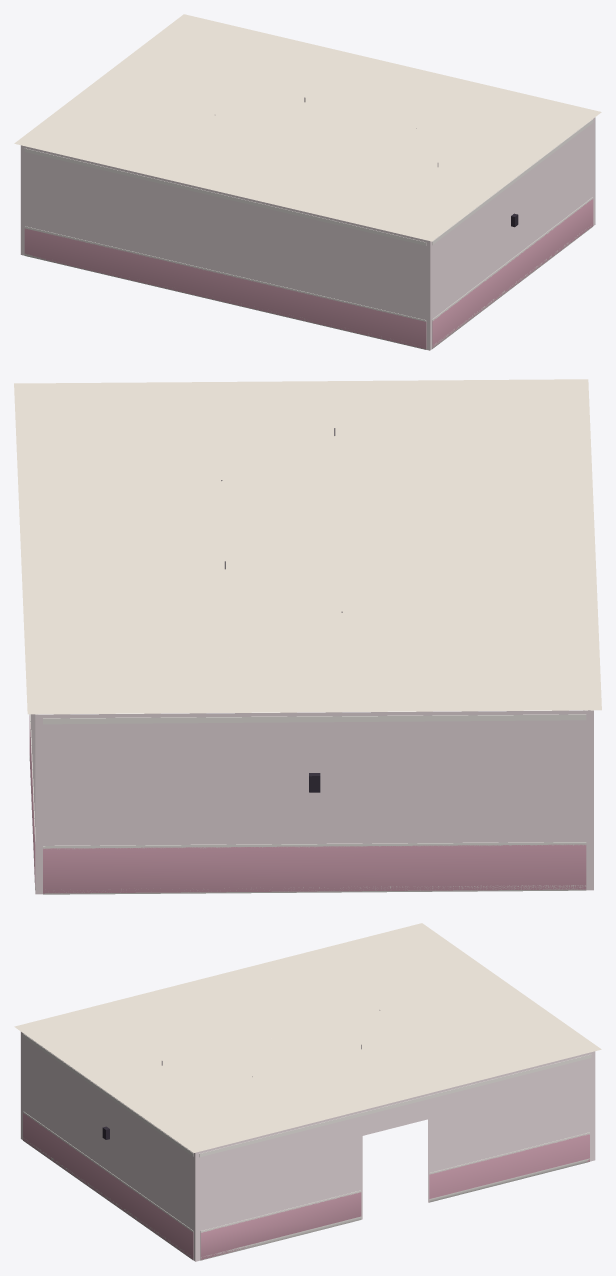
The model's file is zon_room_diary_lite_raw.glb.
The picture shows the model from 3 angles, top to bottom: view 1: azimuth 30°, elevation 25°; view 2: azimuth 150°, elevation 25°; view 3: azimuth 270°, elevation 25°; orthographic projection. The views are drawn at different scales.
Parts seen in each view (by area): view 1: SM_zon_room_diary_lite_room_ceiling_xm1_z0_raw, SM_zon_room_diary_lite_room_paper_xm1_z0_raw, SM_zon_room_diary_lite_room_floor_plaster_xm1_z0_raw; view 2: SM_zon_room_diary_lite_room_ceiling_xm1_z0_raw, SM_zon_room_diary_lite_room_paper_xm1_z0_raw, SM_zon_room_diary_lite_room_floor_plaster_xm1_z0_raw; view 3: SM_zon_room_diary_lite_room_ceiling_xm1_z0_raw, SM_zon_room_diary_lite_room_paper_xm1_z0_raw, SM_zon_room_diary_lite_room_floor_plaster_xm1_z0_raw.
Boxes of the visible parts, bbox=[...] form: SM_zon_room_diary_lite_room_ceiling_xm1_z0_raw: bbox=[14, 14, 601, 241]; SM_zon_room_diary_lite_room_paper_xm1_z0_raw: bbox=[20, 117, 595, 350]; SM_zon_room_diary_lite_room_floor_plaster_xm1_z0_raw: bbox=[24, 97, 593, 349]; SM_zon_room_diary_lite_room_ceiling_xm1_z0_raw: bbox=[14, 379, 601, 714]; SM_zon_room_diary_lite_room_paper_xm1_z0_raw: bbox=[30, 710, 593, 894]; SM_zon_room_diary_lite_room_floor_plaster_xm1_z0_raw: bbox=[29, 428, 593, 894]; SM_zon_room_diary_lite_room_ceiling_xm1_z0_raw: bbox=[14, 923, 601, 1152]; SM_zon_room_diary_lite_room_paper_xm1_z0_raw: bbox=[20, 1031, 595, 1261]; SM_zon_room_diary_lite_room_floor_plaster_xm1_z0_raw: bbox=[23, 1010, 591, 1260].
Bounding box in the file's own units: 17.15 × 4.05 × 18.52.
